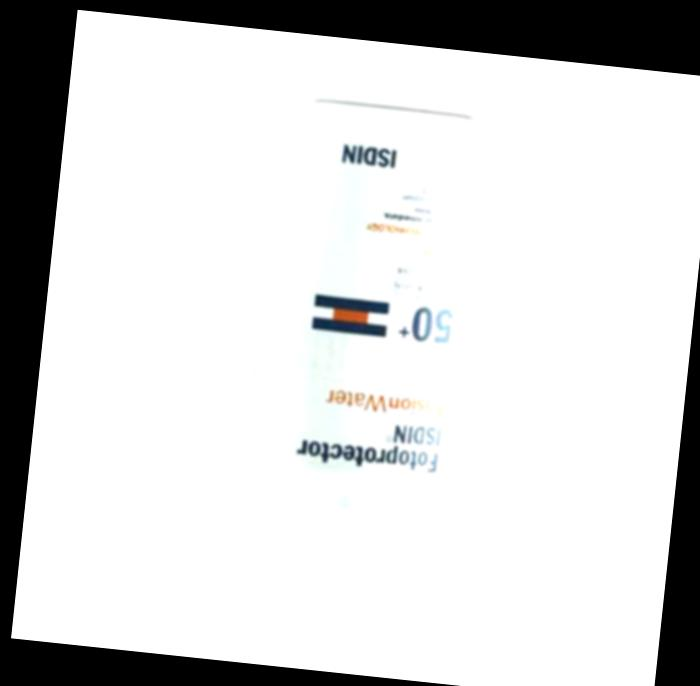cosmetic: (227, 92, 502, 613)
